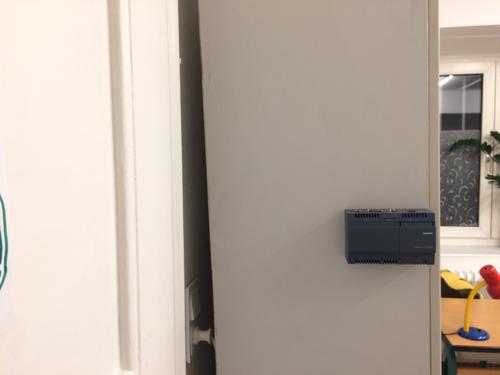iot2000: (345, 208, 437, 267)
